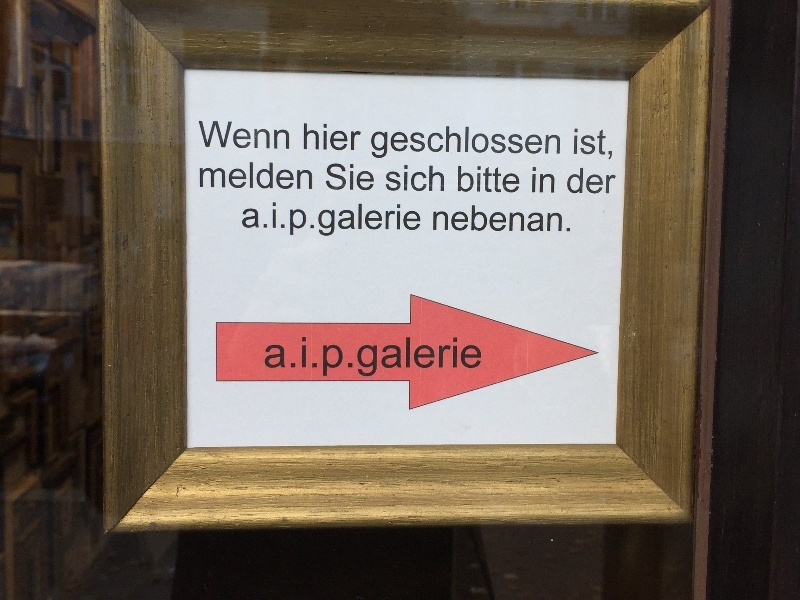text: (273, 333, 288, 378), (289, 333, 304, 378), (305, 333, 320, 378), (321, 333, 336, 378), (337, 333, 352, 378), (353, 333, 368, 378), (369, 333, 384, 378), (385, 333, 400, 378), (401, 333, 416, 378), (417, 333, 432, 378), (433, 333, 448, 378), (449, 333, 464, 378), (465, 333, 480, 378), (257, 202, 272, 240), (273, 202, 288, 240), (289, 202, 304, 240), (305, 202, 320, 240), (321, 202, 336, 240), (337, 202, 352, 240), (353, 202, 368, 240), (369, 202, 384, 240), (385, 202, 400, 240), (401, 202, 416, 240), (545, 125, 561, 160), (385, 125, 400, 160), (401, 125, 416, 160), (417, 125, 432, 160), (433, 125, 448, 160), (449, 125, 464, 160), (465, 125, 480, 160), (481, 125, 496, 160), (497, 125, 512, 160), (513, 125, 528, 160), (529, 125, 544, 160), (577, 127, 592, 161), (593, 127, 608, 161), (209, 158, 224, 191), (225, 158, 240, 191), (241, 158, 256, 191), (257, 158, 272, 191), (273, 158, 288, 191), (289, 158, 304, 191), (337, 160, 352, 193), (353, 160, 368, 193), (243, 202, 256, 240), (209, 119, 224, 151), (225, 119, 240, 151), (241, 119, 256, 151), (257, 119, 272, 151), (273, 119, 288, 151), (465, 164, 480, 195), (481, 164, 496, 195), (497, 164, 512, 195), (449, 203, 464, 234), (465, 203, 480, 234), (481, 203, 496, 234), (497, 203, 512, 234), (513, 203, 528, 234), (529, 203, 544, 234), (545, 203, 560, 234), (371, 125, 384, 160), (305, 122, 320, 152), (321, 122, 336, 152), (337, 122, 352, 152), (401, 164, 416, 194), (417, 164, 432, 194), (577, 166, 592, 196), (593, 166, 608, 196), (434, 203, 448, 234), (387, 164, 400, 194), (433, 164, 445, 194), (532, 165, 544, 195), (561, 203, 572, 234), (326, 160, 336, 193), (198, 119, 208, 151), (545, 165, 555, 195), (609, 166, 619, 196), (305, 158, 314, 191), (353, 122, 362, 152), (200, 158, 208, 191), (568, 166, 576, 196), (369, 160, 376, 193), (267, 333, 272, 378), (513, 164, 520, 195), (417, 202, 422, 240), (458, 164, 464, 195), (609, 127, 614, 161), (481, 333, 484, 378), (574, 127, 576, 161), (289, 119, 291, 151), (303, 122, 304, 152)
